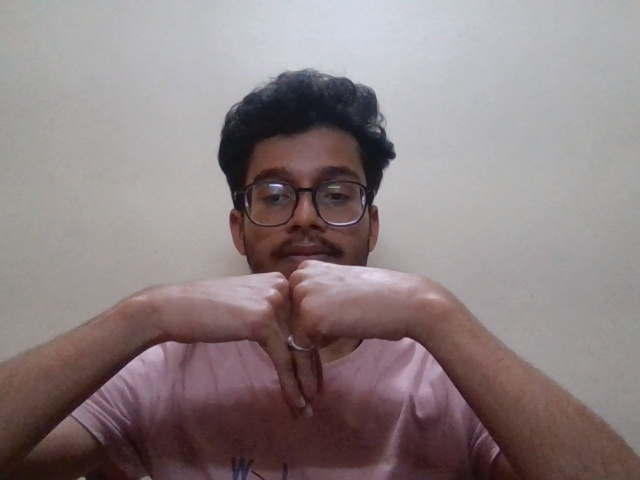yesterday: (147, 254, 427, 425)
